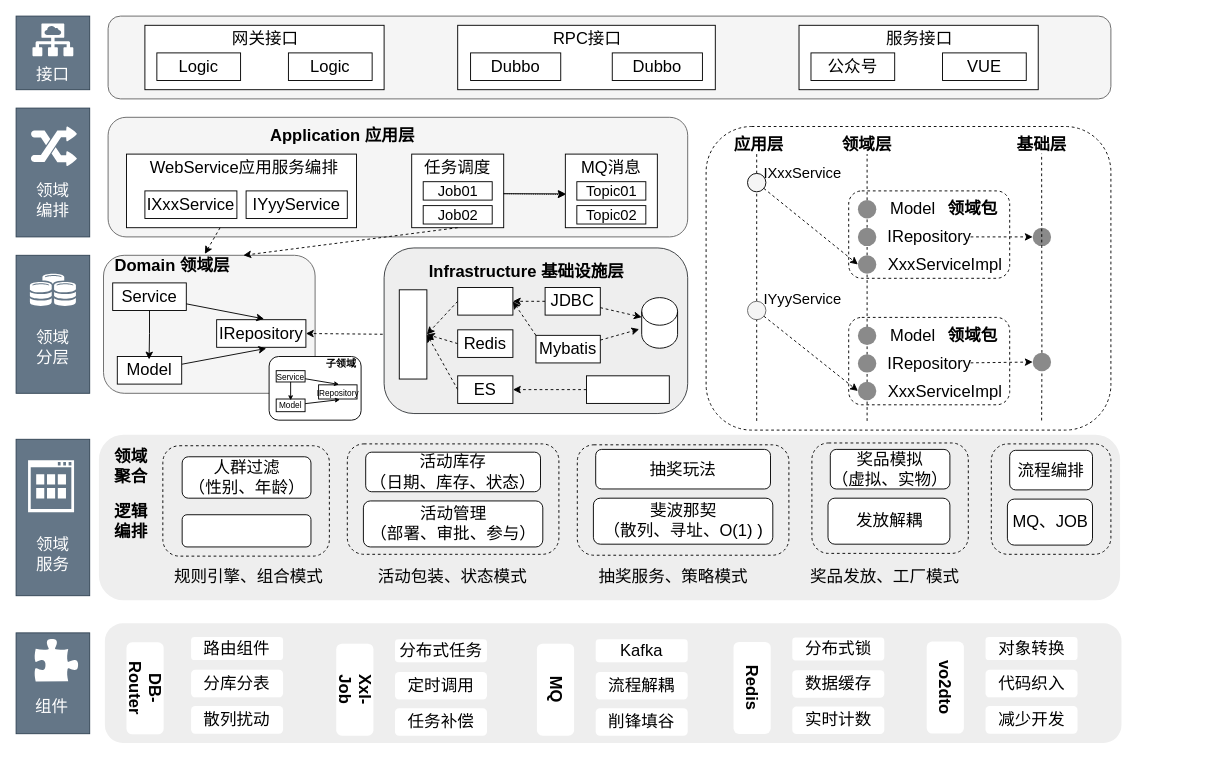
The diagram is 1219 pixels wide and 759 high, and some of its shapes have lost their labels. Here are the shapes that lost their labels. From the top down, the centre of each, then its label:
At [485,301]: "DAO".
At [412,334]: "Repository".
At [659,322]: "DB".
At [627,389]: "文件服务".
At [246,530]: "圈定活动".
